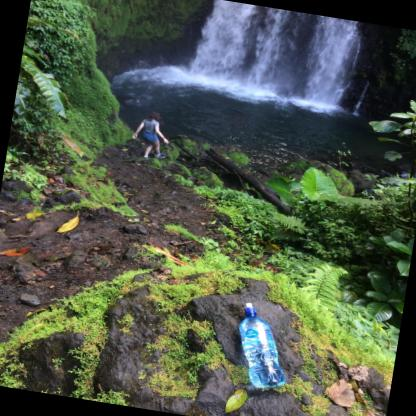Plastic: (238, 302, 285, 387), (244, 302, 256, 313)
